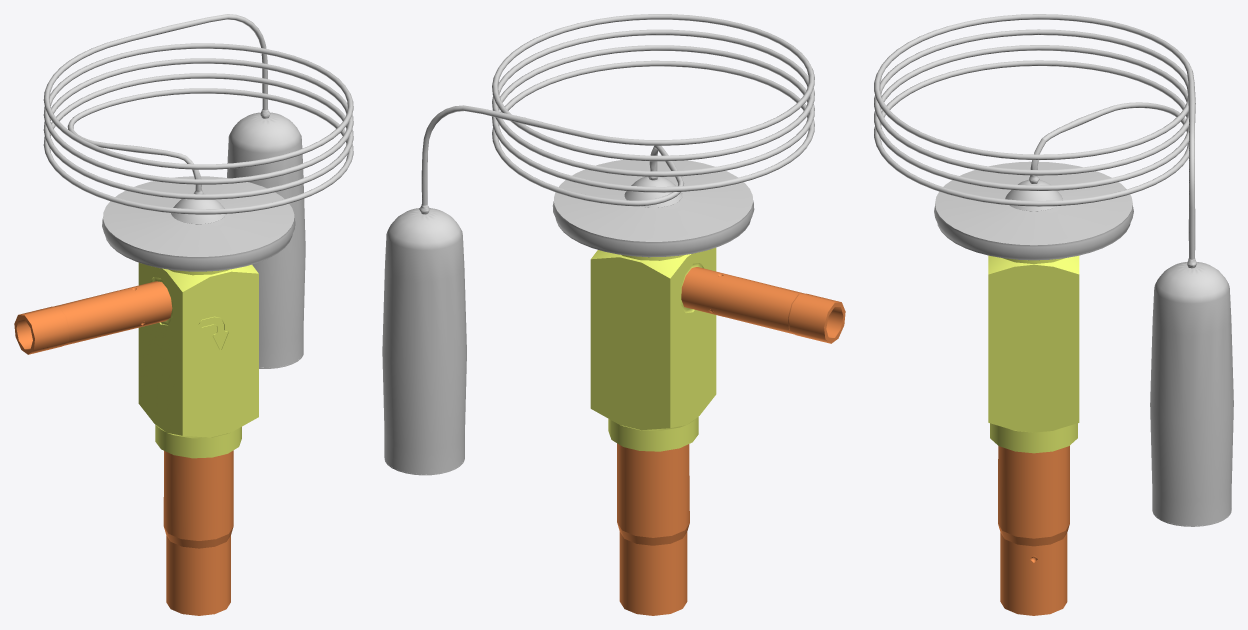
The model's file is TD1_angleway.glb.
3 renders of one model, left to right at view 1: azimuth 30°, elevation 25°; view 2: azimuth 150°, elevation 25°; view 3: azimuth 270°, elevation 25°, orthographic. The views are drawn at different scales.
Visible parts, largest first — view 1: TD1_angleway; view 2: TD1_angleway; view 3: TD1_angleway.
Boxes of the visible parts, <box> form: TD1_angleway: <box>14,14,353,615</box>; TD1_angleway: <box>382,14,845,615</box>; TD1_angleway: <box>874,14,1233,615</box>.
Bounding box in the file's own units: 0.0739 × 0.102 × 0.0633.
